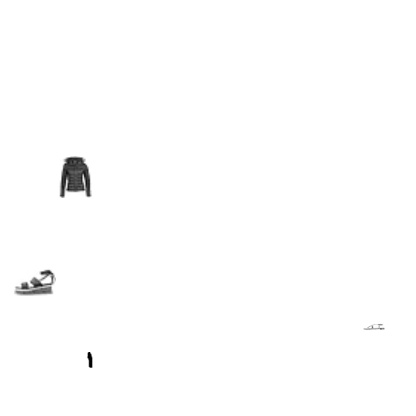1: (79, 348, 101, 370)
Coat: (54, 156, 96, 198)
Sandal: (14, 261, 56, 303), (363, 316, 385, 338)
